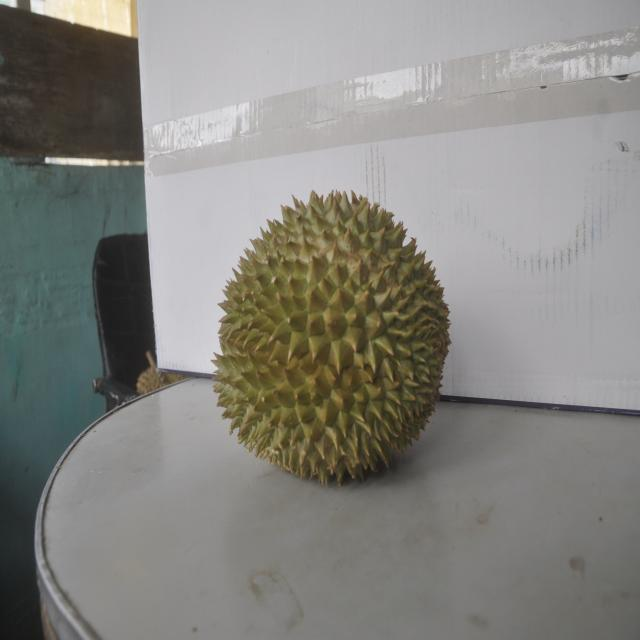mature: (213, 186, 444, 489)
